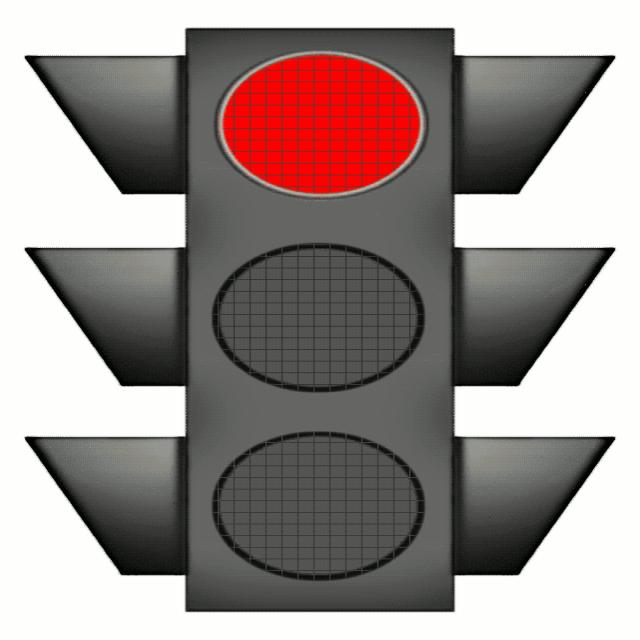red: (213, 49, 434, 198)
